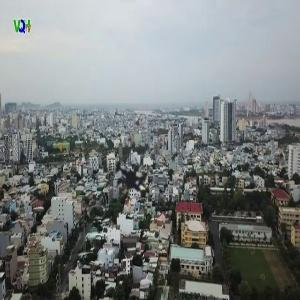drone: (63, 110, 211, 258)
